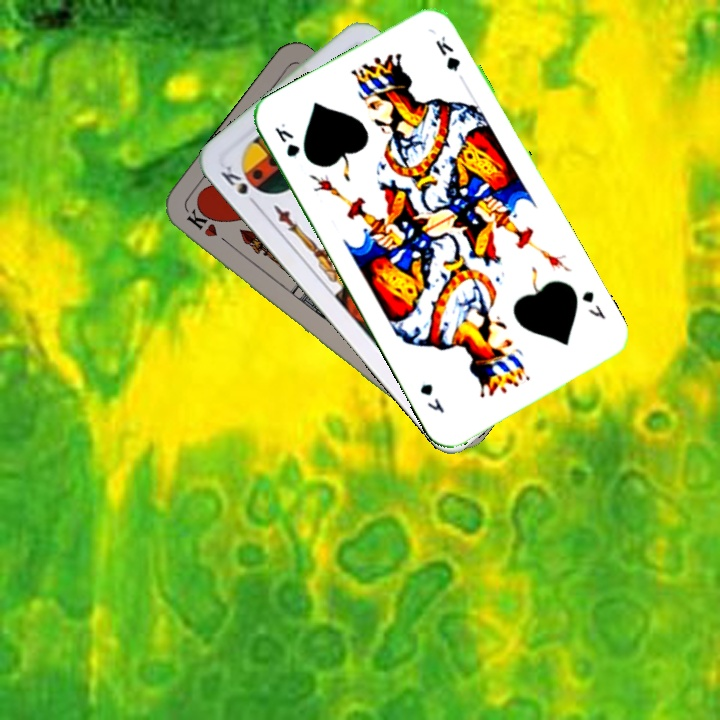GK: (270, 119, 303, 161), (578, 287, 609, 322)
HK: (182, 204, 234, 249)
SK: (216, 161, 261, 210)
